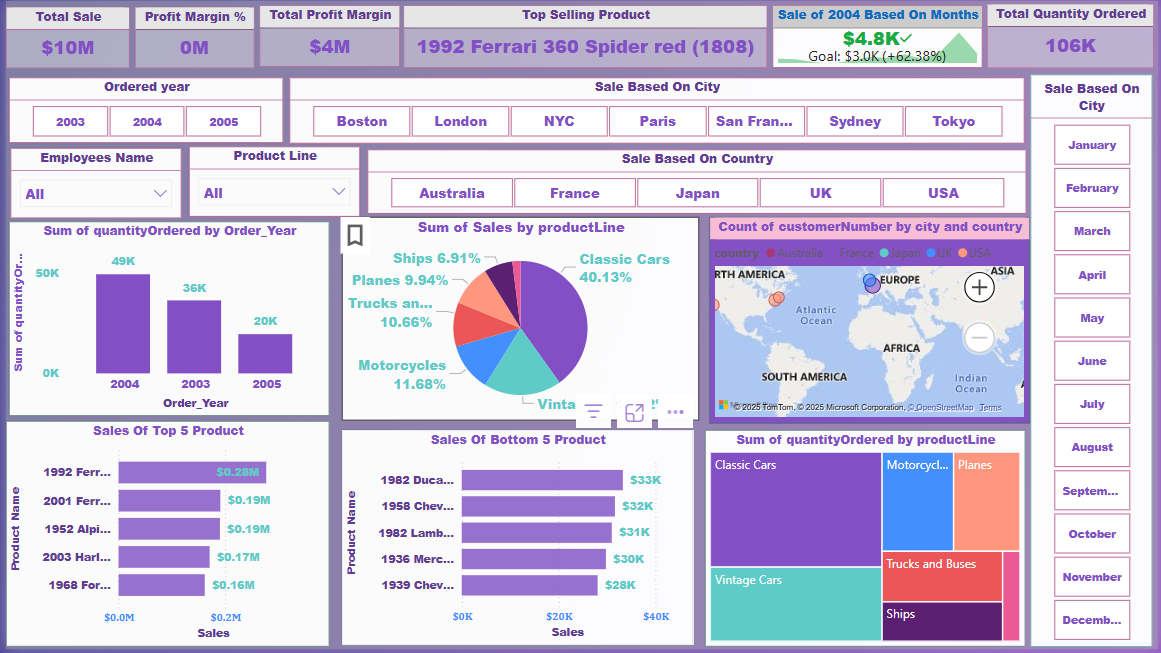

This screenshot's page, from the dashboard's own definition file:
{"tool":"powerbi","page":{"name":"Page 1","canvas":[1280,720],"ordinal":0},"visuals":[{"type":"card","title":"Total Profit Margin","fields":{"Values":["order details.total_profit"]},"box":[281.4,5.2,156.1,68.3],"z":0},{"type":"card","title":"Top Selling Product","fields":{"Values":["order details.Most Ordered Product with Quantity"]},"box":[442.3,5.6,404.2,69.6],"z":1000},{"type":"barChart","title":"Sales Of Top 5 Product","fields":{"Y":["Sum(order details.Sales)"],"Category":["products.productName"]},"box":[0,466.8,359.5,250.5],"z":2000},{"type":"pieChart","fields":{"Y":["Sum(order details.Sales)"],"Category":["productlines.productLine"]},"box":[374.1,240.7,396.9,226.1],"z":3000},{"type":"slicer","title":"Ordered year","fields":{"Values":["orders.Order_Year"]},"box":[3.3,85.1,304.8,72.9],"z":4000},{"type":"card","title":"Total Quantity Ordered","fields":{"Values":["Sum(order details.quantityOrdered)"]},"box":[1090,4,185.5,71.2],"z":5000},{"type":"kpi","title":"Sale of 2004 Based  On Months","fields":{"TrendLine":["orders.Month Name"],"Indicator":["orders.Sale_2004"],"Goal":["orders.Sale_2003"]},"box":[851.4,5.6,233.6,69.6],"z":6000},{"type":"columnChart","fields":{"Category":["orders.Order_Year"],"Y":["Sum(order details.quantityOrdered)"]},"box":[3.3,245.6,356.2,216.3],"z":7000},{"type":"treemap","fields":{"Group":["productlines.productLine"],"Values":["Sum(order details.quantityOrdered)"]},"box":[777.5,476.6,356.2,240.7],"z":8000},{"type":"map","fields":{"Category":["offices.city"],"Series":["offices.country"],"Size":["Count(customers.customerNumber)"]},"box":[782.4,240.7,356.2,229.3],"z":9000},{"type":"card","title":"Total Sale","fields":{"Values":["Sum(order details.Sales)"]},"box":[0,7.3,137.5,67.9],"z":10000},{"type":"card","title":"Profit Margin %","fields":{"Values":["classicmodels.Profit_Margin_%"]},"box":[144.1,7.3,132.5,67.9],"z":11000},{"type":"slicer","title":"Sale Based On City","fields":{"Values":["offices.city"]},"box":[315.5,84.6,816.5,73.2],"z":12000},{"type":"slicer","title":"Sale Based On City","fields":{"Values":["orders.Month Name"]},"box":[1138.6,81.3,135,636],"z":13000},{"type":"slicer","title":"Employees Name","fields":{"Values":["employees.FullName"]},"box":[4.9,162.9,190.3,78.1],"z":14000},{"type":"slicer","title":"Product Line","fields":{"Values":["productlines.productLine"]},"box":[203.3,161.3,190.3,78.1],"z":15000},{"type":"slicer","title":"Sale Based On Country","fields":{"Values":["offices.country"]},"box":[401.8,164.3,731.9,71.6],"z":16000},{"type":"clusteredBarChart","title":"Sales Of Bottom 5 Product","fields":{"Category":["products.productName"],"Y":["Sum(order details.Sales)"]},"box":[374.1,476.6,390.4,239.1],"z":17000},{"type":"actionButton","box":[372.5,240.7,32.5,40.7],"z":18000}]}

Visuals, with their boxes in screenshot pixels (x1, y1, x2, y2), scaled from the page's 1280x720 canvas onto the 1161x653 screenshot:
"Total Profit Margin" card: 255:5:397:67
"Top Selling Product" card: 401:5:768:68
"Sales Of Top 5 Product" barChart: 0:423:326:651
pieChart - Sum(order details.Sales) x productlines.productLine: 339:218:699:423
"Ordered year" slicer: 3:77:279:143
"Total Quantity Ordered" card: 989:4:1157:68
"Sale of 2004 Based  On Months" kpi: 772:5:984:68
columnChart - orders.Order_Year x Sum(order details.quantityOrdered): 3:223:326:419
treemap - productlines.productLine x Sum(order details.quantityOrdered): 705:432:1028:651
map - offices.city x offices.country: 710:218:1033:426
"Total Sale" card: 0:7:125:68
"Profit Margin %" card: 131:7:251:68
"Sale Based On City" slicer: 286:77:1027:143
"Sale Based On City" slicer: 1033:74:1155:651
"Employees Name" slicer: 4:148:177:219
"Product Line" slicer: 184:146:357:217
"Sale Based On Country" slicer: 364:149:1028:214
"Sales Of Bottom 5 Product" clusteredBarChart: 339:432:693:649
actionButton: 338:218:367:255
